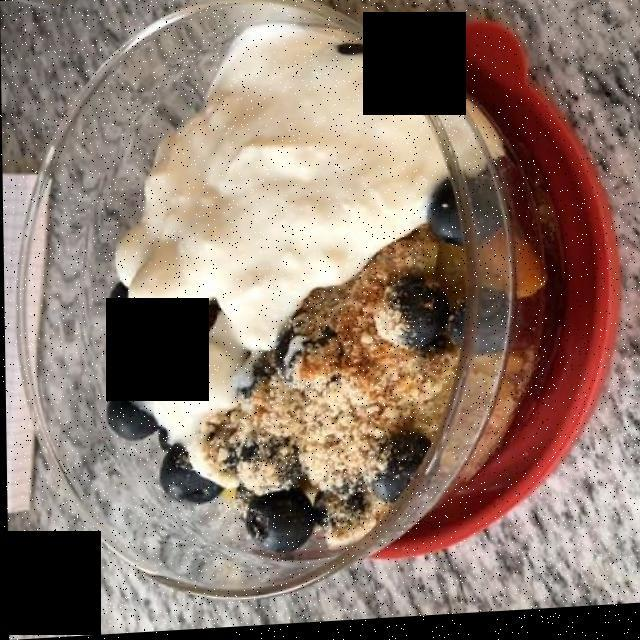almonds: (179, 231, 456, 517)
blueberries: (92, 178, 531, 549)
yogurt: (113, 36, 509, 486)
